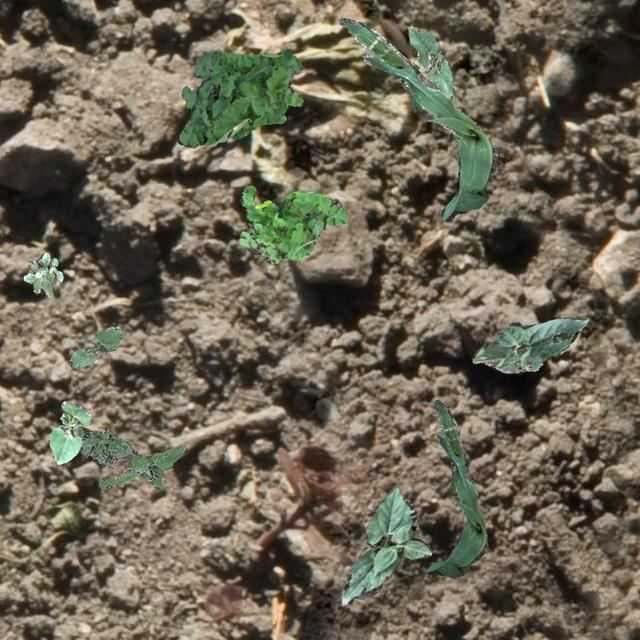crop: (338, 17, 497, 220), (424, 398, 486, 578), (339, 486, 432, 604), (470, 316, 588, 372), (406, 24, 454, 98), (48, 401, 92, 464), (68, 326, 120, 368)
weed: (176, 48, 302, 146), (238, 185, 348, 262), (76, 426, 186, 488), (22, 252, 62, 296)
